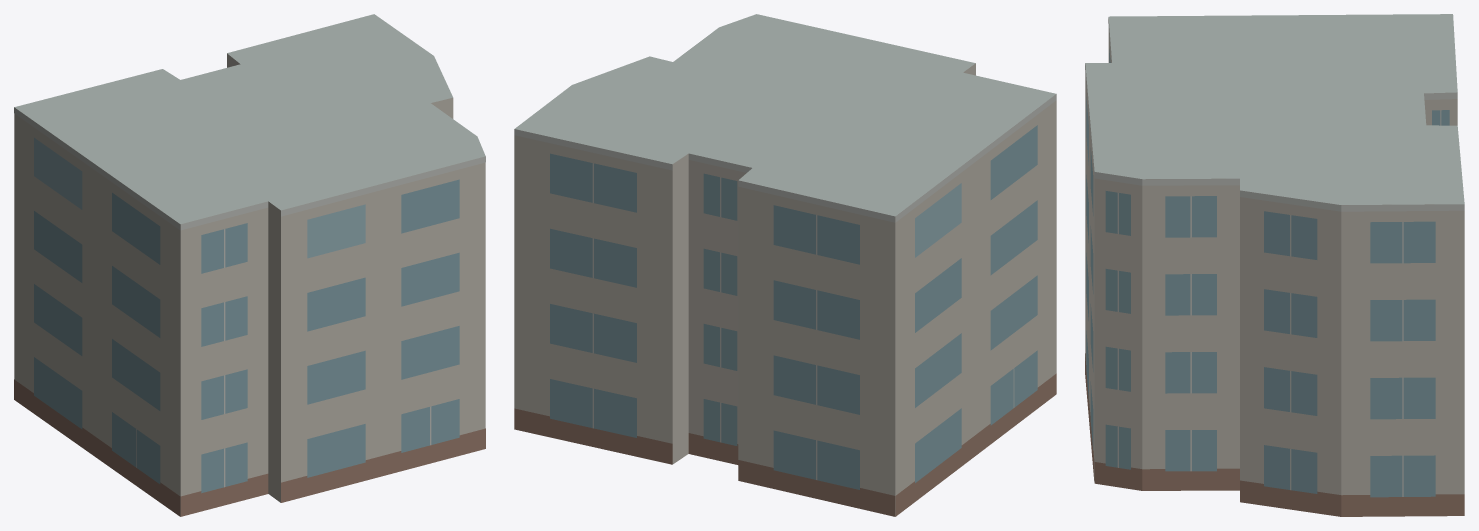
File: survey-upis-32622145.glb
3 renders of one model, left to right at view 1: azimuth 30°, elevation 25°; view 2: azimuth 150°, elevation 25°; view 3: azimuth 270°, elevation 25°, orthographic. The views are drawn at different scales.
Parts seen in each view (by area): view 1: survey-upis-32622145.tmp; view 2: survey-upis-32622145.tmp; view 3: survey-upis-32622145.tmp.
Boxes of the visible parts, x1,y1,x2,y2 form: survey-upis-32622145.tmp: [14, 14, 485, 516]; survey-upis-32622145.tmp: [514, 14, 1056, 516]; survey-upis-32622145.tmp: [1085, 14, 1464, 516].
Bounding box in the file's own units: 15.26 × 11.6 × 12.8.
